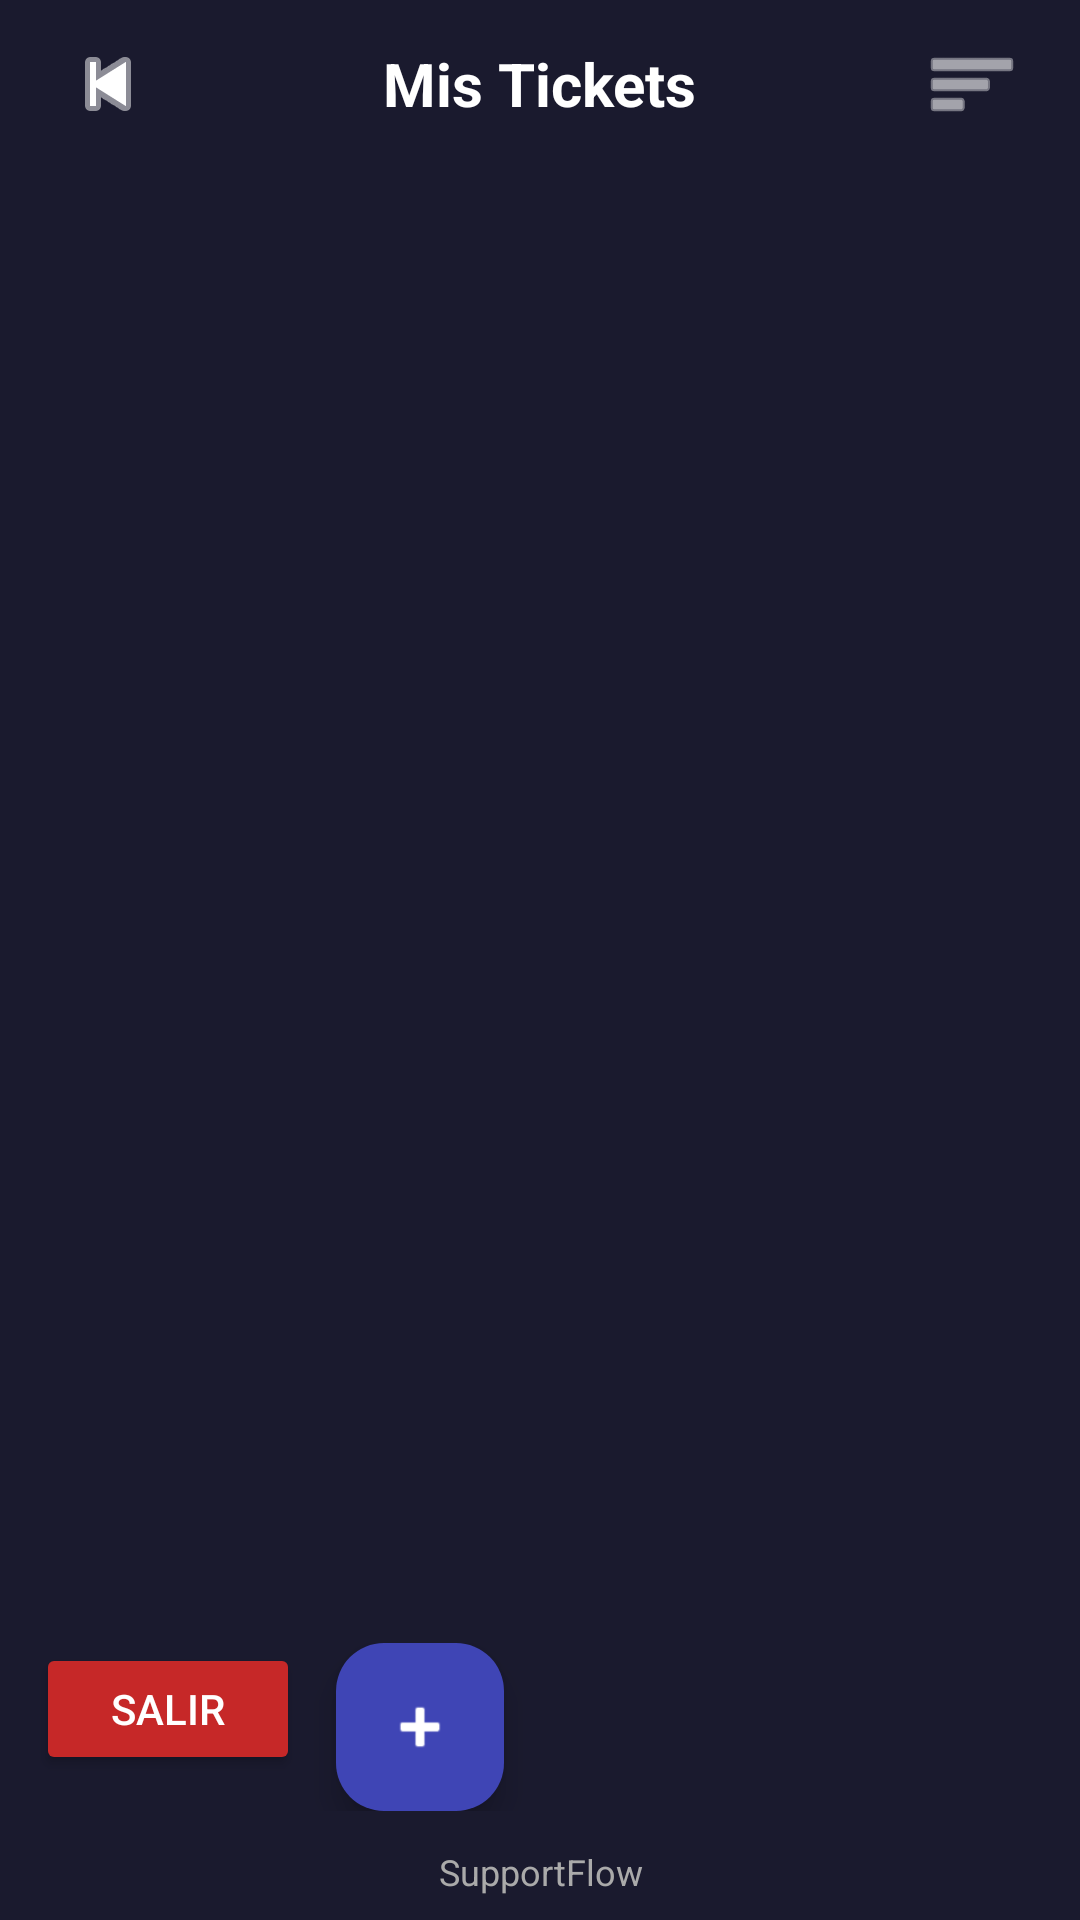

Locate icon controls on the screen. Image size 1080 x 1920, boxes as (x1, y1, x2, y2).
Crear: (336, 1643, 504, 1811)
Filtrar: (931, 58, 1013, 111)
Regresar: (85, 57, 131, 111)
